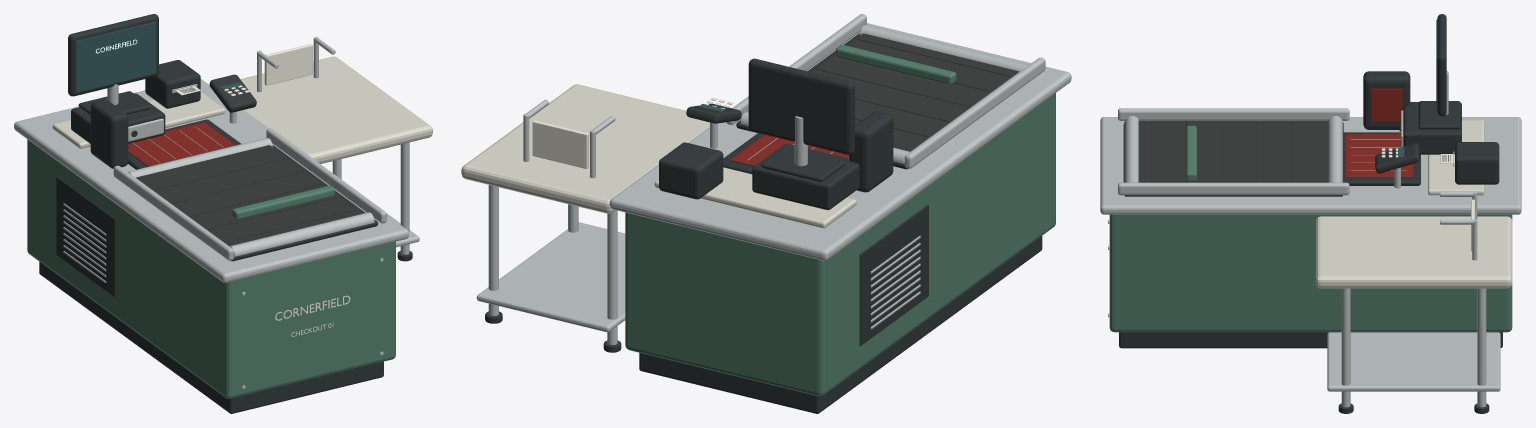
Rendered from checkout.glb.
3 renders of one model, left to right at view 1: azimuth 30°, elevation 25°; view 2: azimuth 150°, elevation 25°; view 3: azimuth 270°, elevation 25°, orthographic. The views are drawn at different scales.
Parts seen in each view (by area): view 1: Checkout_Cabinet, Stainless_Top, Bagging_Return, Moving_Belt_Visual, Recessed_Plinth, Monitor_Display, Access_Panel, Scanner_Glass, Upright_Scanner, Receipt_Printer, Conveyor_Guide, Conveyor_Guide.001 (+13 smaller); view 2: Checkout_Cabinet, Stainless_Top, Bagging_Return, Moving_Belt_Visual, Bagging_Lower_Shelf, Monitor_Frame, Recessed_Plinth, Access_Panel, Till_Housing, Scale_Plate, Receipt_Printer, Upright_Scanner (+11 smaller); view 3: Checkout_Cabinet, Bagging_Return, Stainless_Top, Moving_Belt_Visual, Bagging_Lower_Shelf, Recessed_Plinth, Conveyor_Guide.001, Conveyor_Guide, Scanner_Glass, Receipt_Printer, Scale_Plate, Till_Housing (+12 smaller).
Boxes of the visible parts, x1,y1,x2,y2 form: Checkout_Cabinet: (27,139,395,398); Stainless_Top: (14,79,408,282); Bagging_Return: (240,56,432,163); Moving_Belt_Visual: (136,145,362,246); Recessed_Plinth: (39,262,383,413); Monitor_Display: (76,21,156,92); Access_Panel: (56,176,115,297); Scanner_Glass: (128,122,235,166); Upright_Scanner: (90,99,128,168); Receipt_Printer: (145,60,200,108); Conveyor_Guide: (113,165,234,260); Conveyor_Guide.001: (266,128,386,223); Checkout_Cabinet: (625,93,1055,396); Stainless_Top: (609,23,1071,260); Bagging_Return: (461,84,709,213); Moving_Belt_Visual: (811,33,1019,151); Bagging_Lower_Shelf: (476,222,625,332); Monitor_Frame: (748,58,854,154); Recessed_Plinth: (639,236,1042,413); Access_Panel: (859,204,928,345); Till_Housing: (752,143,859,210); Scale_Plate: (654,167,856,228); Receipt_Printer: (659,142,723,199); Upright_Scanner: (849,111,893,192); Checkout_Cabinet: (1109,214,1512,332); Bagging_Return: (1315,216,1512,288); Stainless_Top: (1100,117,1521,214); Moving_Belt_Visual: (1138,121,1328,182); Bagging_Lower_Shelf: (1327,332,1500,391); Recessed_Plinth: (1119,332,1502,348); Conveyor_Guide.001: (1118,182,1349,195); Conveyor_Guide: (1118,108,1349,120); Scanner_Glass: (1345,134,1412,177); Receipt_Printer: (1455,142,1499,184); Scale_Plate: (1428,120,1484,195); Till_Housing: (1403,102,1461,154).
Bounding box in the file's own units: 7.85 × 6.15 × 9.
